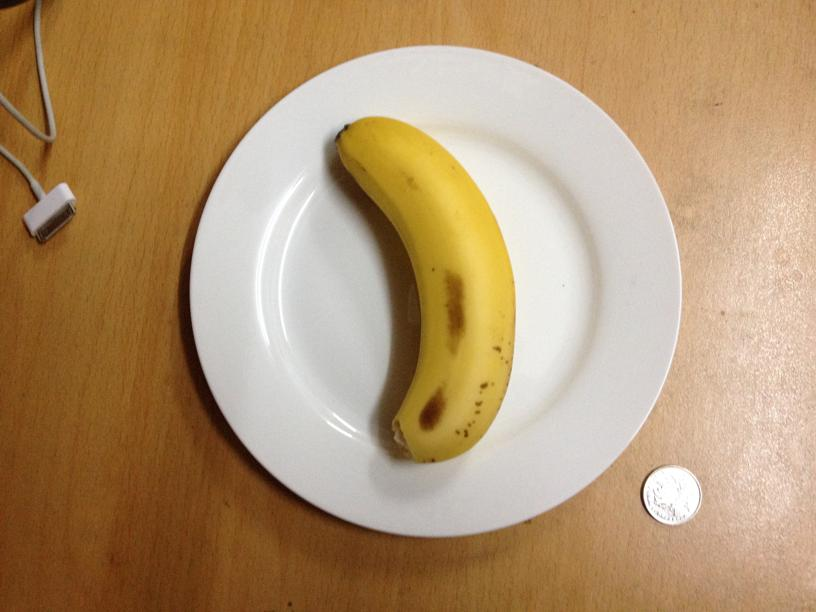banana: (338, 119, 515, 462)
coin: (643, 462, 703, 525)
